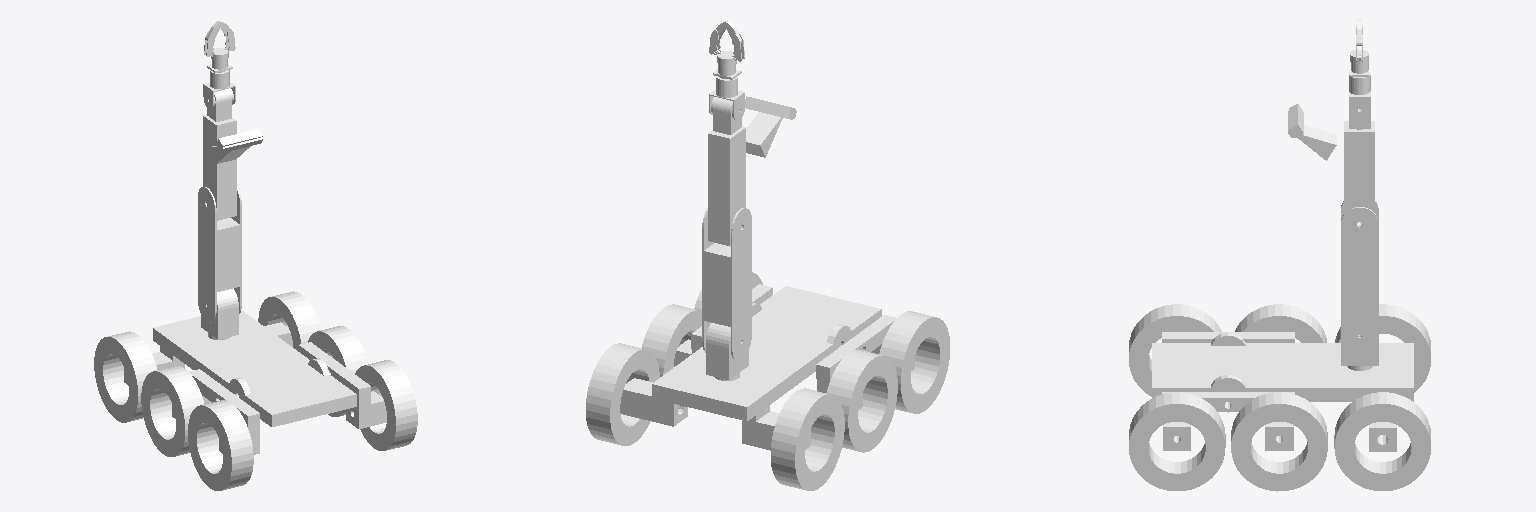
URDF robot description (tzb_description):
<?xml version="1.0" encoding="utf-8"?>
<!-- This URDF was automatically created by SolidWorks to URDF Exporter! Originally created by Stephen Brawner (brawner@gmail.com) 
     Commit Version: 1.6.0-4-g7f85cfe  Build Version: 1.6.7995.38578
     For more information, please see http://wiki.ros.org/sw_urdf_exporter -->
<robot
  name="tzb_description">
  <link
    name="base_link">
    <inertial>
      <origin
        xyz="-1.52009045962895E-16 -0.00601450511371332 -0.0679638773547368"
        rpy="0 0 0" />
      <mass
        value="26.2254731863278" />
      <inertia
        ixx="0.592003946414147"
        ixy="-9.83091199255635E-17"
        ixz="1.03126934119654E-17"
        iyy="0.197213284600528"
        iyz="0.0232198105229031"
        izz="0.614018234114391" />
    </inertial>
    <visual>
      <origin
        xyz="0 0 0"
        rpy="0 0 0" />
      <geometry>
        <mesh
          filename="package://tzb_description/meshes/base_link.STL" />
      </geometry>
      <material
        name="">
        <color
          rgba="1 1 1 1" />
      </material>
    </visual>
    <collision>
      <origin
        xyz="0 0 0"
        rpy="0 0 0" />
      <geometry>
        <mesh
          filename="package://tzb_description/meshes/base_link.STL" />
      </geometry>
    </collision>
  </link>
  <link
    name="J1_link">
    <inertial>
      <origin
        xyz="-1.16696924073283E-17 -5.89936086092813E-15 0.0651809526971255"
        rpy="0 0 0" />
      <mass
        value="0.870553075390441" />
      <inertia
        ixx="0.00193707700286863"
        ixy="1.55539055223716E-20"
        ixz="6.90778776015883E-20"
        iyy="0.00159687695132158"
        iyz="-8.29488612320407E-20"
        izz="0.0010133703294203" />
    </inertial>
    <visual>
      <origin
        xyz="0 0 0"
        rpy="0 0 0" />
      <geometry>
        <mesh
          filename="package://tzb_description/meshes/J1_link.STL" />
      </geometry>
      <material
        name="">
        <color
          rgba="1 1 1 1" />
      </material>
    </visual>
    <collision>
      <origin
        xyz="0 0 0"
        rpy="0 0 0" />
      <geometry>
        <mesh
          filename="package://tzb_description/meshes/J1_link.STL" />
      </geometry>
    </collision>
  </link>
  <joint
    name="J1_joint"
    type="revolute">
    <origin
      xyz="0 0.2 0.014"
      rpy="0 0 0" />
    <parent
      link="base_link" />
    <child
      link="J1_link" />
    <axis
      xyz="0 0 1" />
    <limit
      lower="-1.5708"
      upper="3.6652"
      effort="20"
      velocity="1.6666" />
  </joint>
  <link
    name="J2_link">
    <inertial>
      <origin
        xyz="-5.47897025517967E-17 -8.23173994246584E-14 0.157913891578045"
        rpy="0 0 0" />
      <mass
        value="1.91674379887805" />
      <inertia
        ixx="0.0116561421527398"
        ixy="-1.3661350225509E-19"
        ixz="1.10846426460773E-18"
        iyy="0.0115264664033735"
        iyz="1.41522283470341E-18"
        izz="0.00303675819709709" />
    </inertial>
    <visual>
      <origin
        xyz="0 0 0"
        rpy="0 0 0" />
      <geometry>
        <mesh
          filename="package://tzb_description/meshes/J2_link.STL" />
      </geometry>
      <material
        name="">
        <color
          rgba="1 1 1 1" />
      </material>
    </visual>
    <collision>
      <origin
        xyz="0 0 0"
        rpy="0 0 0" />
      <geometry>
        <mesh
          filename="package://tzb_description/meshes/J2_link.STL" />
      </geometry>
    </collision>
  </link>
  <joint
    name="J2_joint"
    type="revolute">
    <origin
      xyz="0 0 0.0899999999999928"
      rpy="0 0 0" />
    <parent
      link="J1_link" />
    <child
      link="J2_link" />
    <axis
      xyz="1 0 0" />
    <limit
      lower="-1.1345"
      upper="1.1345"
      effort="20"
      velocity="1.666" />
  </joint>
  <link
    name="J3_link">
    <inertial>
      <origin
        xyz="-6.65485905713986E-17 2.33753988387875E-16 0.111672940162958"
        rpy="0 0 0" />
      <mass
        value="1.56550421436345" />
      <inertia
        ixx="0.012521866006591"
        ixy="1.69260109042968E-19"
        ixz="1.47587910960831E-18"
        iyy="0.0122442403176993"
        iyz="-2.50208950190202E-17"
        izz="0.00141550373070813" />
    </inertial>
    <visual>
      <origin
        xyz="0 0 0"
        rpy="0 0 0" />
      <geometry>
        <mesh
          filename="package://tzb_description/meshes/J3_link.STL" />
      </geometry>
      <material
        name="">
        <color
          rgba="1 1 1 1" />
      </material>
    </visual>
    <collision>
      <origin
        xyz="0 0 0"
        rpy="0 0 0" />
      <geometry>
        <mesh
          filename="package://tzb_description/meshes/J3_link.STL" />
      </geometry>
    </collision>
  </link>
  <joint
    name="J3_joint"
    type="revolute">
    <origin
      xyz="0 0 0.320000000000007"
      rpy="0 0 0" />
    <parent
      link="J2_link" />
    <child
      link="J3_link" />
    <axis
      xyz="1 0 0" />
    <limit
      lower="-2.618"
      upper="2.618"
      effort="12"
      velocity="0.6" />
  </joint>
  <link
    name="J4_link">
    <inertial>
      <origin
        xyz="-0.00089896613209195 -5.55690476272686E-14 0.0412964133734367"
        rpy="0 0 0" />
      <mass
        value="0.251968903038926" />
      <inertia
        ixx="0.000218980857141259"
        ixy="1.10951631087129E-19"
        ixz="-2.43171697257959E-06"
        iyy="0.000225136648420625"
        iyz="4.24549455878371E-18"
        izz="0.00013459438799732" />
    </inertial>
    <visual>
      <origin
        xyz="0 0 0"
        rpy="0 0 0" />
      <geometry>
        <mesh
          filename="package://tzb_description/meshes/J4_link.STL" />
      </geometry>
      <material
        name="">
        <color
          rgba="1 1 1 1" />
      </material>
    </visual>
    <collision>
      <origin
        xyz="0 0 0"
        rpy="0 0 0" />
      <geometry>
        <mesh
          filename="package://tzb_description/meshes/J4_link.STL" />
      </geometry>
    </collision>
  </link>
  <joint
    name="J4_joint"
    type="revolute">
    <origin
      xyz="0 0 0.264900000000004"
      rpy="0 0 0" />
    <parent
      link="J3_link" />
    <child
      link="J4_link" />
    <axis
      xyz="0 0 1" />
    <limit
      lower="-2.8798"
      upper="2.8798"
      effort="3.5"
      velocity="2.0" />
  </joint>
  <link
    name="J5_link">
    <inertial>
      <origin
        xyz="3.0821947004463E-15 9.14242639926677E-15 0.0541050588081871"
        rpy="0 0 0" />
      <mass
        value="0.152463177255861" />
      <inertia
        ixx="0.000118991388244827"
        ixy="1.39339477252047E-19"
        ixz="-1.53438224551648E-18"
        iyy="0.000141377899683522"
        iyz="-9.19350053381676E-18"
        izz="8.84352298415392E-05" />
    </inertial>
    <visual>
      <origin
        xyz="0 0 0"
        rpy="0 0 0" />
      <geometry>
        <mesh
          filename="package://tzb_description/meshes/J5_link.STL" />
      </geometry>
      <material
        name="">
        <color
          rgba="1 1 1 1" />
      </material>
    </visual>
    <collision>
      <origin
        xyz="0 0 0"
        rpy="0 0 0" />
      <geometry>
        <mesh
          filename="package://tzb_description/meshes/J5_link.STL" />
      </geometry>
    </collision>
  </link>
  <joint
    name="J5_joint"
    type="revolute">
    <origin
      xyz="0 0 0.0599999999999952"
      rpy="0 0 0" />
    <parent
      link="J4_link" />
    <child
      link="J5_link" />
    <axis
      xyz="-1 0 0" />
    <limit
      lower="-1.578"
      upper="1.5708"
      effort="3.5"
      velocity="2.0" />
  </joint>
  <link
    name="J6_link">
    <inertial>
      <origin
        xyz="-5.55657718875896E-16 -1.81194035470122E-14 0.0251515712920739"
        rpy="0 0 0" />
      <mass
        value="0.115603262197442" />
      <inertia
        ixx="3.46828046915316E-05"
        ixy="4.89428497193629E-22"
        ixz="6.67317441342625E-22"
        iyy="3.71780580226247E-05"
        iyz="2.88964235716535E-20"
        izz="3.57386232754556E-05" />
    </inertial>
    <visual>
      <origin
        xyz="0 0 0"
        rpy="0 0 0" />
      <geometry>
        <mesh
          filename="package://tzb_description/meshes/J6_link.STL" />
      </geometry>
      <material
        name="">
        <color
          rgba="1 1 1 1" />
      </material>
    </visual>
    <collision>
      <origin
        xyz="0 0 0"
        rpy="0 0 0" />
      <geometry>
        <mesh
          filename="package://tzb_description/meshes/J6_link.STL" />
      </geometry>
    </collision>
  </link>
  <joint
    name="J6_joint"
    type="revolute">
    <origin
      xyz="0 0 0.0930000000000012"
      rpy="0 0 0" />
    <parent
      link="J5_link" />
    <child
      link="J6_link" />
    <axis
      xyz="0 0 1" />
    <limit
      lower="-3.14159"
      upper="3.14159"
      effort="3.5"
      velocity="2.0" />
  </joint>
  <link
    name="Claw_left_link">
    <inertial>
      <origin
        xyz="0.0047113685399107 -2.20544936480049E-13 0.0478288480078148"
        rpy="0 0 0" />
      <mass
        value="0.0211667167204152" />
      <inertia
        ixx="5.66710777587648E-06"
        ixy="3.08145023183647E-23"
        ixz="-1.78501276423374E-06"
        iyy="7.17535580368308E-06"
        iyz="2.9793254745141E-21"
        izz="1.83237288105822E-06" />
    </inertial>
    <visual>
      <origin
        xyz="0 0 0"
        rpy="0 0 0" />
      <geometry>
        <mesh
          filename="package://tzb_description/meshes/Claw_left_link.STL" />
      </geometry>
      <material
        name="">
        <color
          rgba="1 1 1 1" />
      </material>
    </visual>
    <collision>
      <origin
        xyz="0 0 0"
        rpy="0 0 0" />
      <geometry>
        <mesh
          filename="package://tzb_description/meshes/Claw_left_link.STL" />
      </geometry>
    </collision>
  </link>
  <joint
    name="Claw_left_joint"
    type="revolute">
    <origin
      xyz="-0.0300000000000046 0 0.0562499999999994"
      rpy="0 0 0" />
    <parent
      link="J6_link" />
    <child
      link="Claw_left_link" />
    <axis
      xyz="0 1 0" />
    <limit
      lower="-0.5236"
      upper="0"
      effort="0.8"
      velocity="2.5" />
  </joint>
  <link
    name="claw_right_link">
    <inertial>
      <origin
        xyz="-0.00471136853981437 1.17128529097954E-14 0.0478288480078184"
        rpy="0 0 0" />
      <mass
        value="0.0211667167204152" />
      <inertia
        ixx="5.66710777587646E-06"
        ixy="2.65261377690728E-19"
        ixz="1.78501276423369E-06"
        iyy="7.17535580368307E-06"
        iyz="-1.12518961738044E-18"
        izz="1.8323728810582E-06" />
    </inertial>
    <visual>
      <origin
        xyz="0 0 0"
        rpy="0 0 0" />
      <geometry>
        <mesh
          filename="package://tzb_description/meshes/claw_right_link.STL" />
      </geometry>
      <material
        name="">
        <color
          rgba="1 1 1 1" />
      </material>
    </visual>
    <collision>
      <origin
        xyz="0 0 0"
        rpy="0 0 0" />
      <geometry>
        <mesh
          filename="package://tzb_description/meshes/claw_right_link.STL" />
      </geometry>
    </collision>
  </link>
  <joint
    name="claw_right_joint"
    type="revolute">
    <origin
      xyz="0.0299999999999934 0 0.0562499999999951"
      rpy="0 0 0" />
    <parent
      link="J6_link" />
    <child
      link="claw_right_link" />
    <axis
      xyz="0 1 0" />
    <limit
      lower="0"
      upper="0.5236"
      effort="0.8"
      velocity="2.5" />
    <mimic
      joint="Claw_left_joint"
      multiplier="-1"
      offset="0" />
  </joint>
  <link
    name="camera_link">
    <inertial>
      <origin
        xyz="-6.23548177461065E-17 0.0450595685752024 -0.0283827941733639"
        rpy="0 0 0" />
      <mass
        value="0.355270555447913" />
      <inertia
        ixx="0.000758988605099568"
        ixy="7.67011198700595E-20"
        ixz="-1.11973445777091E-19"
        iyy="0.000337642737954099"
        iyz="0.00011715706260026"
        izz="0.000960675206446699" />
    </inertial>
    <visual>
      <origin
        xyz="0 0 0"
        rpy="0 0 0" />
      <geometry>
        <mesh
          filename="package://tzb_description/meshes/camera_link.STL" />
      </geometry>
      <material
        name="">
        <color
          rgba="1 1 1 1" />
      </material>
    </visual>
    <collision>
      <origin
        xyz="0 0 0"
        rpy="0 0 0" />
      <geometry>
        <mesh
          filename="package://tzb_description/meshes/camera_link.STL" />
      </geometry>
    </collision>
  </link>
  <joint
    name="camera_joint"
    type="fixed">
    <origin
      xyz="-0.03 -0.155288674811394 0.274492525428163"
      rpy="-0.5235987 0 0" />
    <parent
      link="J3_link" />
    <child
      link="camera_link" />
    <axis
      xyz="0 0 0" />
  </joint>
  <link
    name="tcp_link" />
  <joint
    name="tcp_joint"
    type="fixed">
    <origin
      xyz="-0.02 -0.001 0.11"
      rpy="0 0 0" />
    <parent
      link="J6_link" />
    <child
      link="tcp_link" />
  </joint>
</robot>

--- Render facts (derived) ---
3 views of the same robot in one strip: view 1: azimuth 30°, elevation 25°; view 2: azimuth 150°, elevation 25°; view 3: azimuth 270°, elevation 25° (orthographic).
Model tzb_description with 11 links and 10 joints (8 revolute, 2 fixed), rooted at base_link, posed all joints at 0.
Visible links, largest first — view 1: base_link, J2_link, J3_link, J1_link, camera_link, J5_link, J4_link; view 2: base_link, J2_link, J3_link, camera_link, J1_link, J5_link, J4_link, J6_link; view 3: base_link, J2_link, J3_link, camera_link, J5_link, J1_link.
Boxes of the visible links, x1,y1,x2,y2 form: base_link: (94, 291, 417, 490); J2_link: (198, 187, 241, 322); J3_link: (203, 114, 236, 220); J1_link: (201, 288, 238, 339); camera_link: (211, 129, 262, 163); J5_link: (203, 70, 235, 109); J4_link: (207, 88, 233, 121); base_link: (586, 272, 949, 490); J2_link: (702, 208, 751, 360); J3_link: (708, 126, 745, 246); camera_link: (745, 96, 796, 157); J1_link: (706, 323, 748, 379); J5_link: (709, 76, 744, 121); J4_link: (711, 97, 741, 134); J6_link: (713, 50, 741, 79); base_link: (1129, 304, 1430, 491); J2_link: (1341, 201, 1378, 353); J3_link: (1344, 121, 1374, 226); camera_link: (1288, 104, 1336, 160); J5_link: (1349, 71, 1370, 119); J1_link: (1341, 335, 1378, 365).
Size in the robot's own frame: 0.613 by 0.787 by 1.21 metres.
Meshes: 10 distinct files referenced, 10 mesh visuals loaded (10 binary STL).
